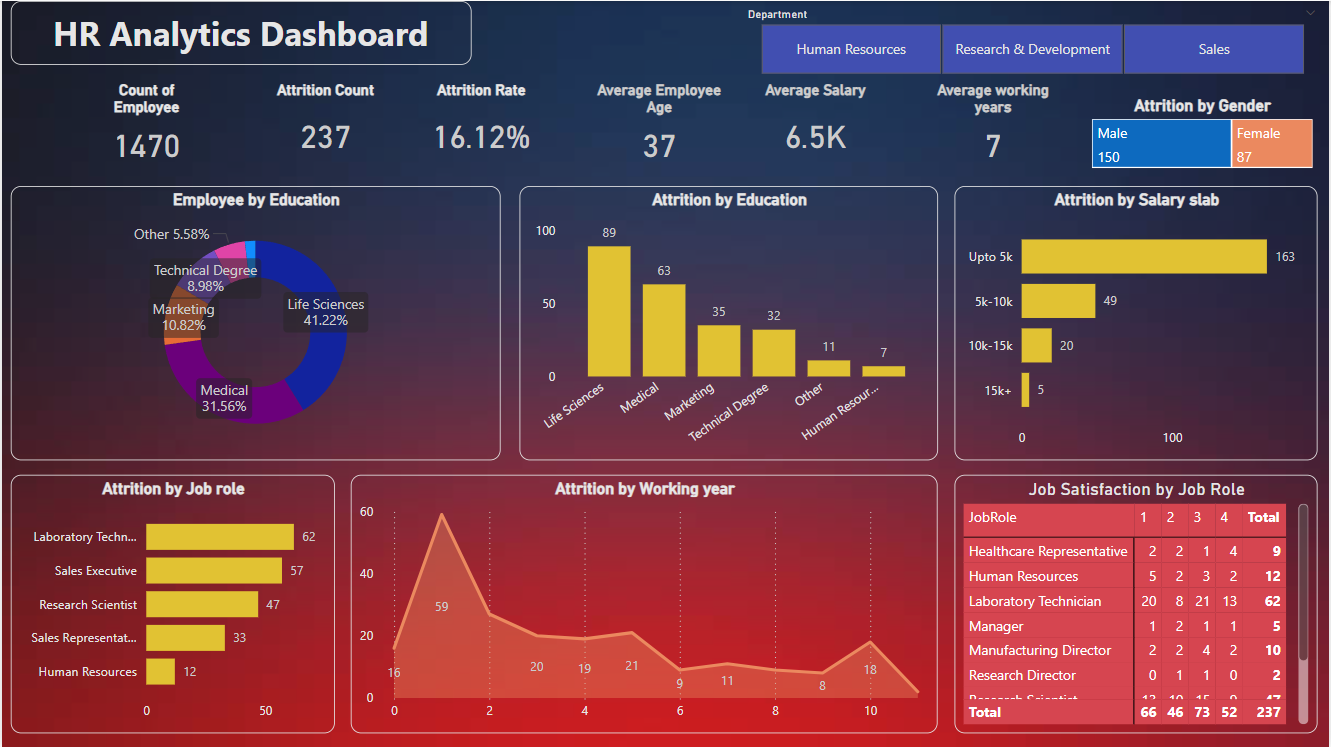

The page's visual inventory and layout, read from the dashboard file:
{"tool":"powerbi","page":{"name":"Page 1","canvas":[1280,720],"ordinal":0},"visuals":[{"type":"card","title":"Count of Employee","fields":{"Values":["CountNonNull(HR_Analytics.EmpID)"]},"box":[77.1,77.1,124.8,88.3],"z":0},{"type":"card","title":"Attrition Count","fields":{"Values":["Sum(HR_Analytics.AttritionCount)"]},"box":[245.4,77.1,134.6,88.3],"z":1000},{"type":"card","title":"Attrition Rate","fields":{"Values":["HR_Analytics.AttritionRate"]},"box":[398.2,77.1,129,88.3],"z":2000},{"type":"card","title":"Average Employee Age","fields":{"Values":["Avg(HR_Analytics.Age)"]},"box":[566.5,77.1,134.6,88.3],"z":3000},{"type":"card","title":"Average working years","fields":{"Values":["Avg(HR_Analytics.YearsAtCompany)"]},"box":[889,77.1,134.6,88.3],"z":4000},{"type":"card","title":"Average Salary","fields":{"Values":["Avg(HR_Analytics.MonthlyIncome)"]},"box":[718,77.1,134.6,88.3],"z":5000},{"type":"donutChart","title":"Employee by Education","fields":{"Category":["HR_Analytics.EducationField"],"Y":["CountNonNull(HR_Analytics.Education)"]},"box":[8.4,178.1,472.6,265],"z":6000},{"type":"columnChart","title":"Attrition by Education","fields":{"Category":["HR_Analytics.EducationField"],"Y":["Sum(HR_Analytics.AttritionCount)"]},"box":[499.2,178.1,403.9,265],"z":7000},{"type":"pivotTable","title":"Job Satisfaction by Job Role","fields":{"Rows":["HR_Analytics.JobRole"],"Columns":["HR_Analytics.JobSatisfaction"],"Values":["Sum(HR_Analytics.AttritionCount)"]},"box":[919.9,457.1,350.6,249.6],"z":8000},{"type":"barChart","title":"Attrition by Salary slab","fields":{"Category":["HR_Analytics.SalarySlab"],"Y":["Sum(HR_Analytics.AttritionCount)"]},"box":[919.9,178.1,350.6,265],"z":9000},{"type":"barChart","title":"Attrition by Job role","fields":{"Y":["Sum(HR_Analytics.AttritionCount)"],"Category":["HR_Analytics.JobRole"]},"box":[8.4,457.1,312.7,249.6],"z":10000},{"type":"stackedAreaChart","title":"Attrition by Working year","fields":{"Category":["HR_Analytics.YearsAtCompany"],"Y":["Sum(HR_Analytics.AttritionCount)"]},"box":[336.5,457.1,566.5,249.6],"z":11000},{"type":"treemap","title":"Attrition by Gender","fields":{"Group":["HR_Analytics.Gender"],"Values":["Sum(HR_Analytics.AttritionCount)"]},"box":[1047.5,91.1,223,74.3],"z":12000},{"type":"slicer","fields":{"Values":["HR_Analytics.Department"]},"box":[706.8,1.4,573.5,75.7],"z":13000},{"type":"textbox","box":[8.4,0,444.5,61.7],"z":14000}]}

Visuals, with their boxes in screenshot pixels (x1, y1, x2, y2), scaled from the page's 1280x720 canvas onto the 1331x747 screenshot:
"Count of Employee" card: x1=80, y1=80, x2=210, y2=172
"Attrition Count" card: x1=255, y1=80, x2=395, y2=172
"Attrition Rate" card: x1=414, y1=80, x2=548, y2=172
"Average Employee Age" card: x1=589, y1=80, x2=729, y2=172
"Average working years" card: x1=924, y1=80, x2=1064, y2=172
"Average Salary" card: x1=747, y1=80, x2=887, y2=172
"Employee by Education" donutChart: x1=9, y1=185, x2=500, y2=460
"Attrition by Education" columnChart: x1=519, y1=185, x2=939, y2=460
"Job Satisfaction by Job Role" pivotTable: x1=957, y1=474, x2=1321, y2=733
"Attrition by Salary slab" barChart: x1=957, y1=185, x2=1321, y2=460
"Attrition by Job role" barChart: x1=9, y1=474, x2=334, y2=733
"Attrition by Working year" stackedAreaChart: x1=350, y1=474, x2=939, y2=733
"Attrition by Gender" treemap: x1=1089, y1=95, x2=1321, y2=172
slicer - HR_Analytics.Department: x1=735, y1=1, x2=1330, y2=80
textbox: x1=9, y1=0, x2=471, y2=64
